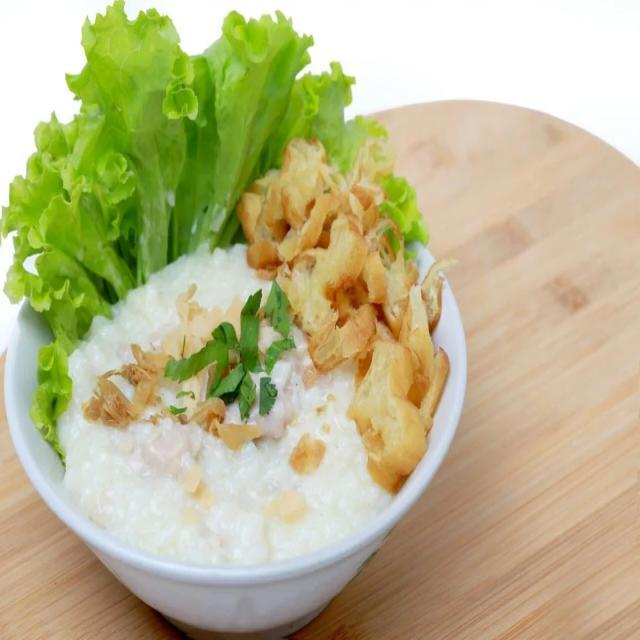bubur ayam: (56, 228, 442, 570)
mangkuk: (3, 236, 470, 636)
